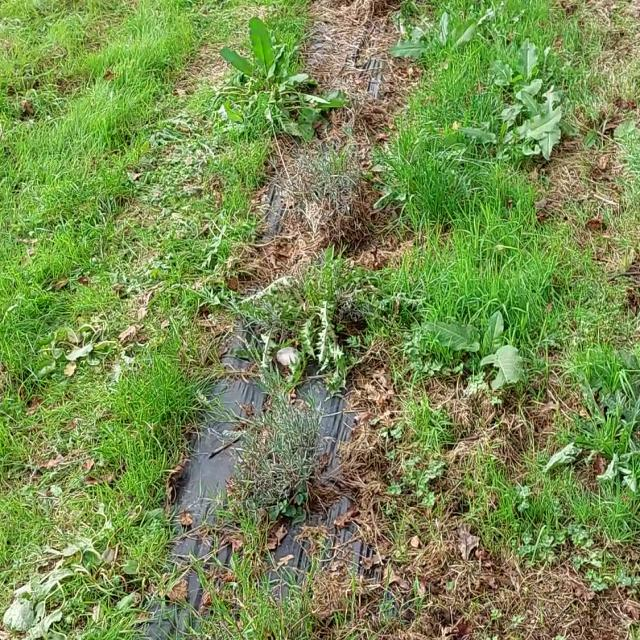organic waste: (196, 16, 331, 131), (414, 291, 546, 398), (11, 531, 141, 633), (380, 5, 488, 90), (493, 80, 586, 163), (40, 296, 110, 388)
